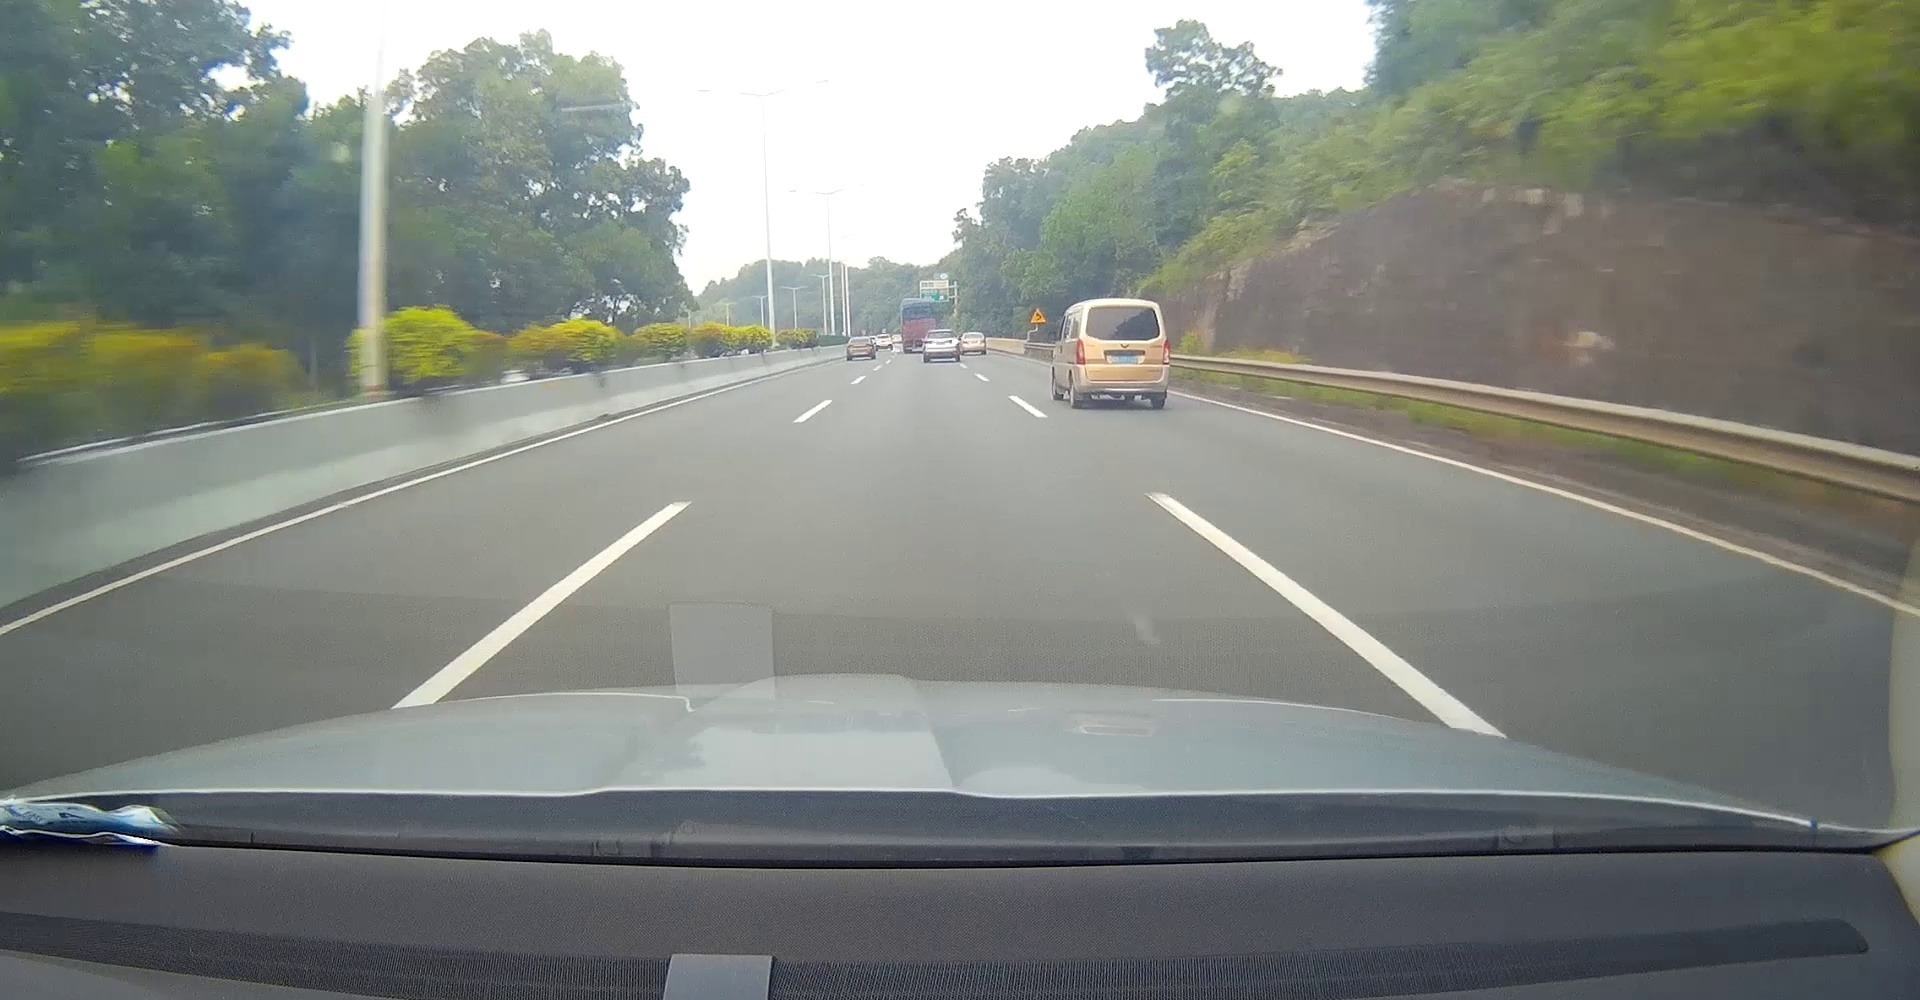L_light: (1077, 338, 1086, 364)
R_light: (1163, 341, 1171, 365)
T_light: (1115, 305, 1130, 310)
day-no: (1072, 297, 1172, 409)
